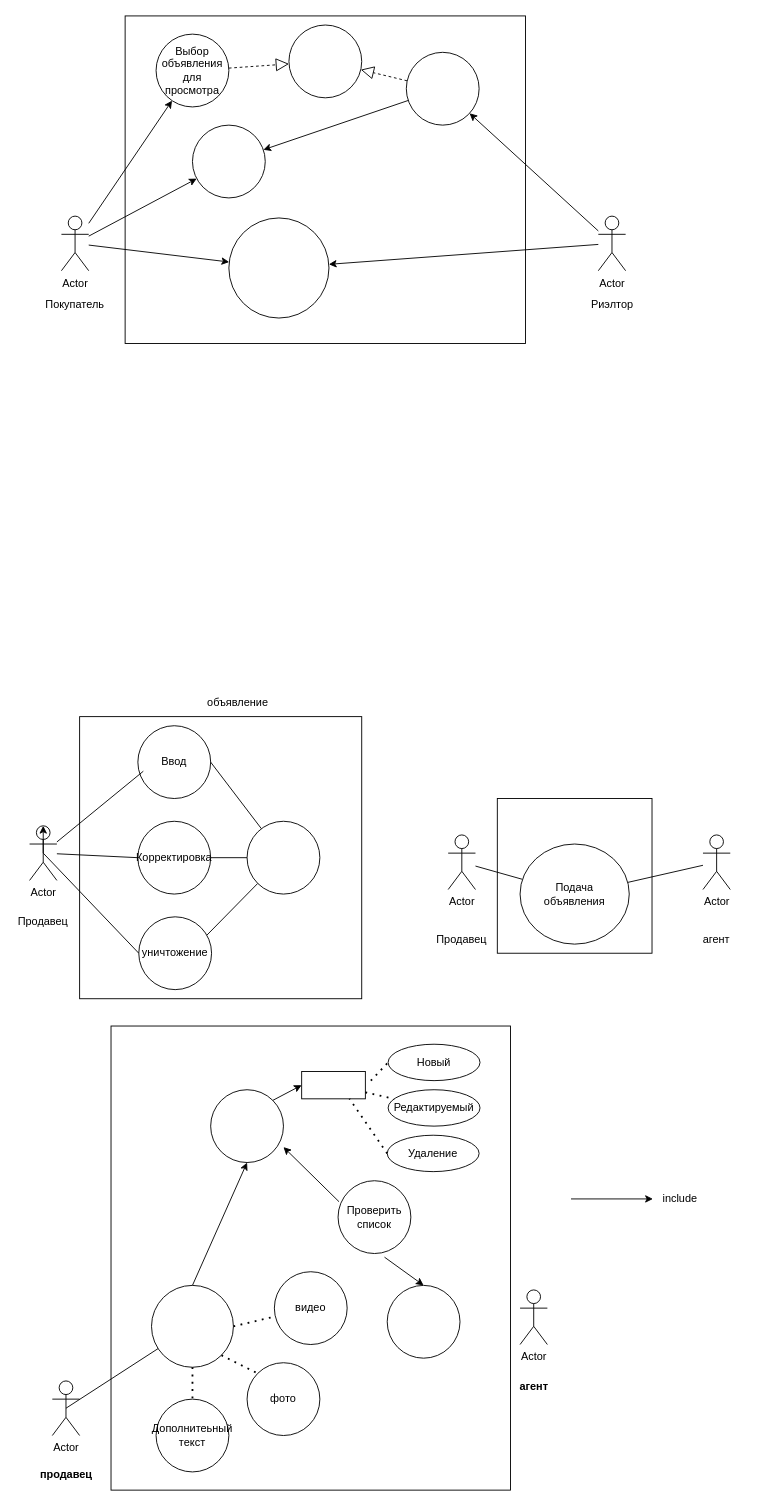
Some shapes in this 759 by 1506 pixel diagram are drawn without their labels. Here are the shapes that lost their labels. From the top down, the centre of each, then its label:
the point at 325,61: Отправка запроса
the point at 442,88: Установка времени просмотра
the point at 228,161: Согласие на указанное время
the point at 278,267: Дистанционное проведение показа
the point at 283,857: Внести на расмотрение с отметкой
the point at 333,1085: отметка
the point at 246,1126: Внести на рассмотрение
the point at 192,1325: Прод обязательную информацию
the point at 423,1321: Поместить в общий список
